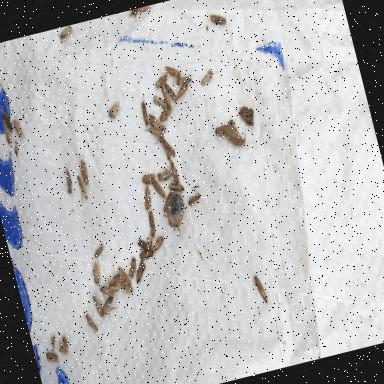pbw: (92, 290, 112, 326), (248, 274, 268, 306), (134, 183, 156, 212), (160, 84, 178, 117), (154, 159, 176, 185), (145, 110, 167, 136), (84, 311, 101, 344), (143, 124, 166, 148), (58, 162, 74, 195), (74, 174, 90, 207), (137, 94, 152, 128), (156, 104, 179, 126), (131, 258, 150, 284), (122, 255, 140, 282), (198, 66, 222, 86), (151, 66, 171, 90), (148, 234, 168, 258), (145, 209, 160, 240), (102, 100, 123, 122), (114, 263, 132, 288), (164, 62, 184, 84), (151, 177, 168, 202), (166, 176, 186, 197), (88, 260, 104, 286), (160, 135, 176, 160), (98, 282, 118, 302), (99, 295, 119, 315), (158, 134, 172, 162), (0, 104, 14, 132), (11, 116, 26, 142), (207, 8, 226, 28), (116, 276, 134, 296), (164, 81, 178, 105), (78, 158, 90, 186), (173, 82, 191, 100), (184, 190, 202, 208), (102, 272, 122, 288), (45, 349, 61, 369), (152, 92, 168, 112), (169, 158, 181, 184), (56, 25, 74, 42), (137, 246, 155, 262), (174, 72, 193, 87), (56, 338, 70, 358), (142, 233, 156, 252), (2, 121, 12, 146), (141, 172, 157, 186), (91, 244, 107, 258), (47, 333, 58, 350), (136, 237, 148, 252), (12, 138, 20, 156)
